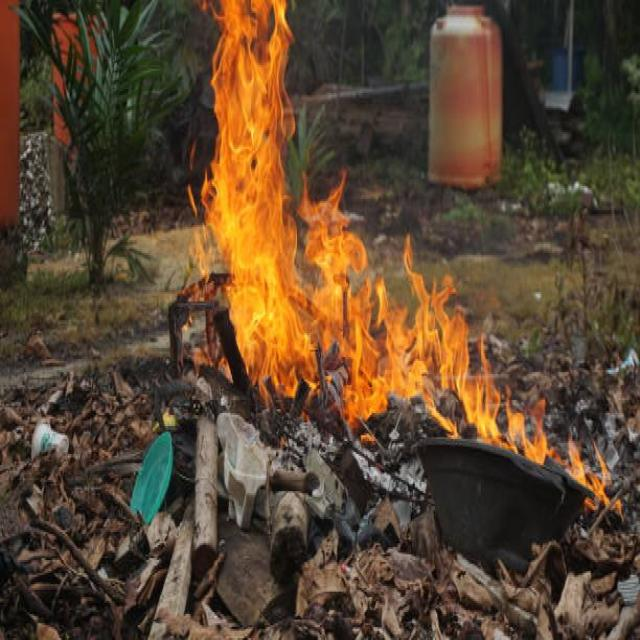fire: (187, 0, 296, 413), (294, 166, 371, 431), (371, 176, 431, 415), (432, 275, 470, 441), (547, 439, 623, 522), (468, 331, 502, 449), (501, 382, 547, 467)
